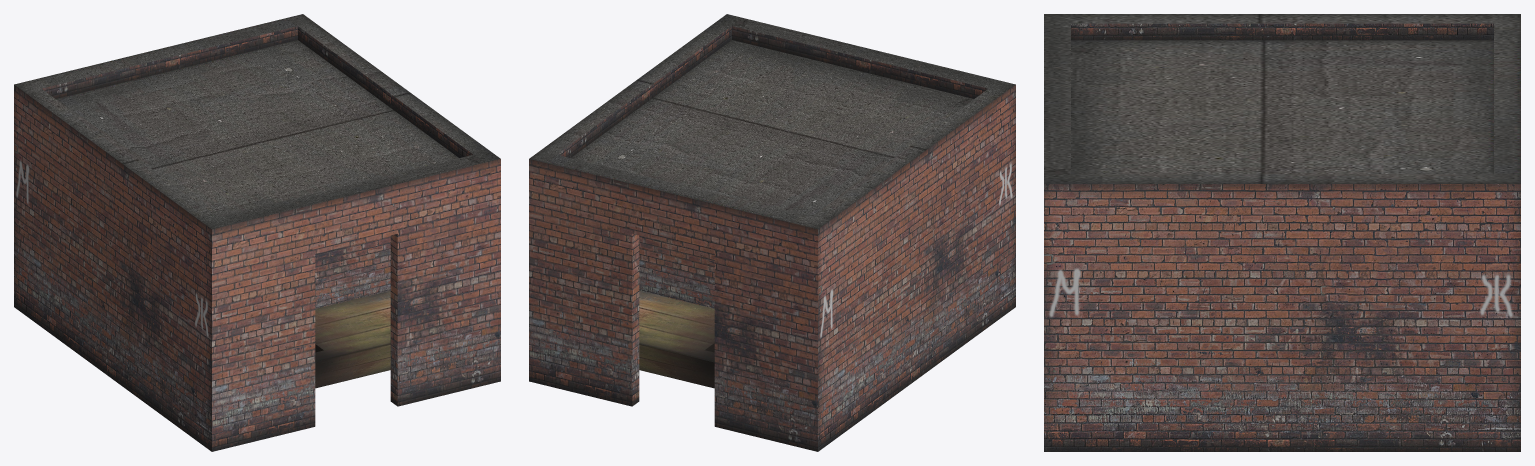
The model's file is a320_tualet.FBX.
The picture shows the model from 3 angles, left to right: view 1: azimuth 30°, elevation 25°; view 2: azimuth 150°, elevation 25°; view 3: azimuth 270°, elevation 25°; orthographic projection. The views are drawn at different scales.
Visible parts, largest first — view 1: a320_tualet; view 2: a320_tualet; view 3: a320_tualet.
Part boxes in pixels (x1,y1,x2,y2): a320_tualet: (14,14,500,451); a320_tualet: (529,14,1015,451); a320_tualet: (1044,14,1520,451).
Size of the model in its own units: 3.5 by 4.15 by 2.58.
